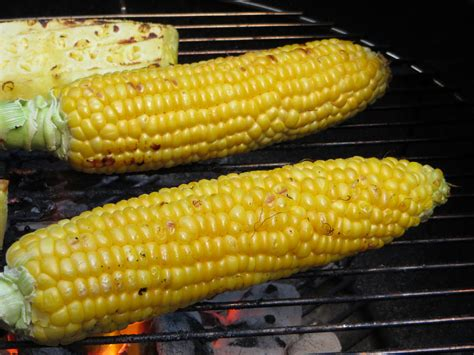???: (5, 156, 450, 345), (60, 38, 392, 172), (1, 17, 179, 95)
